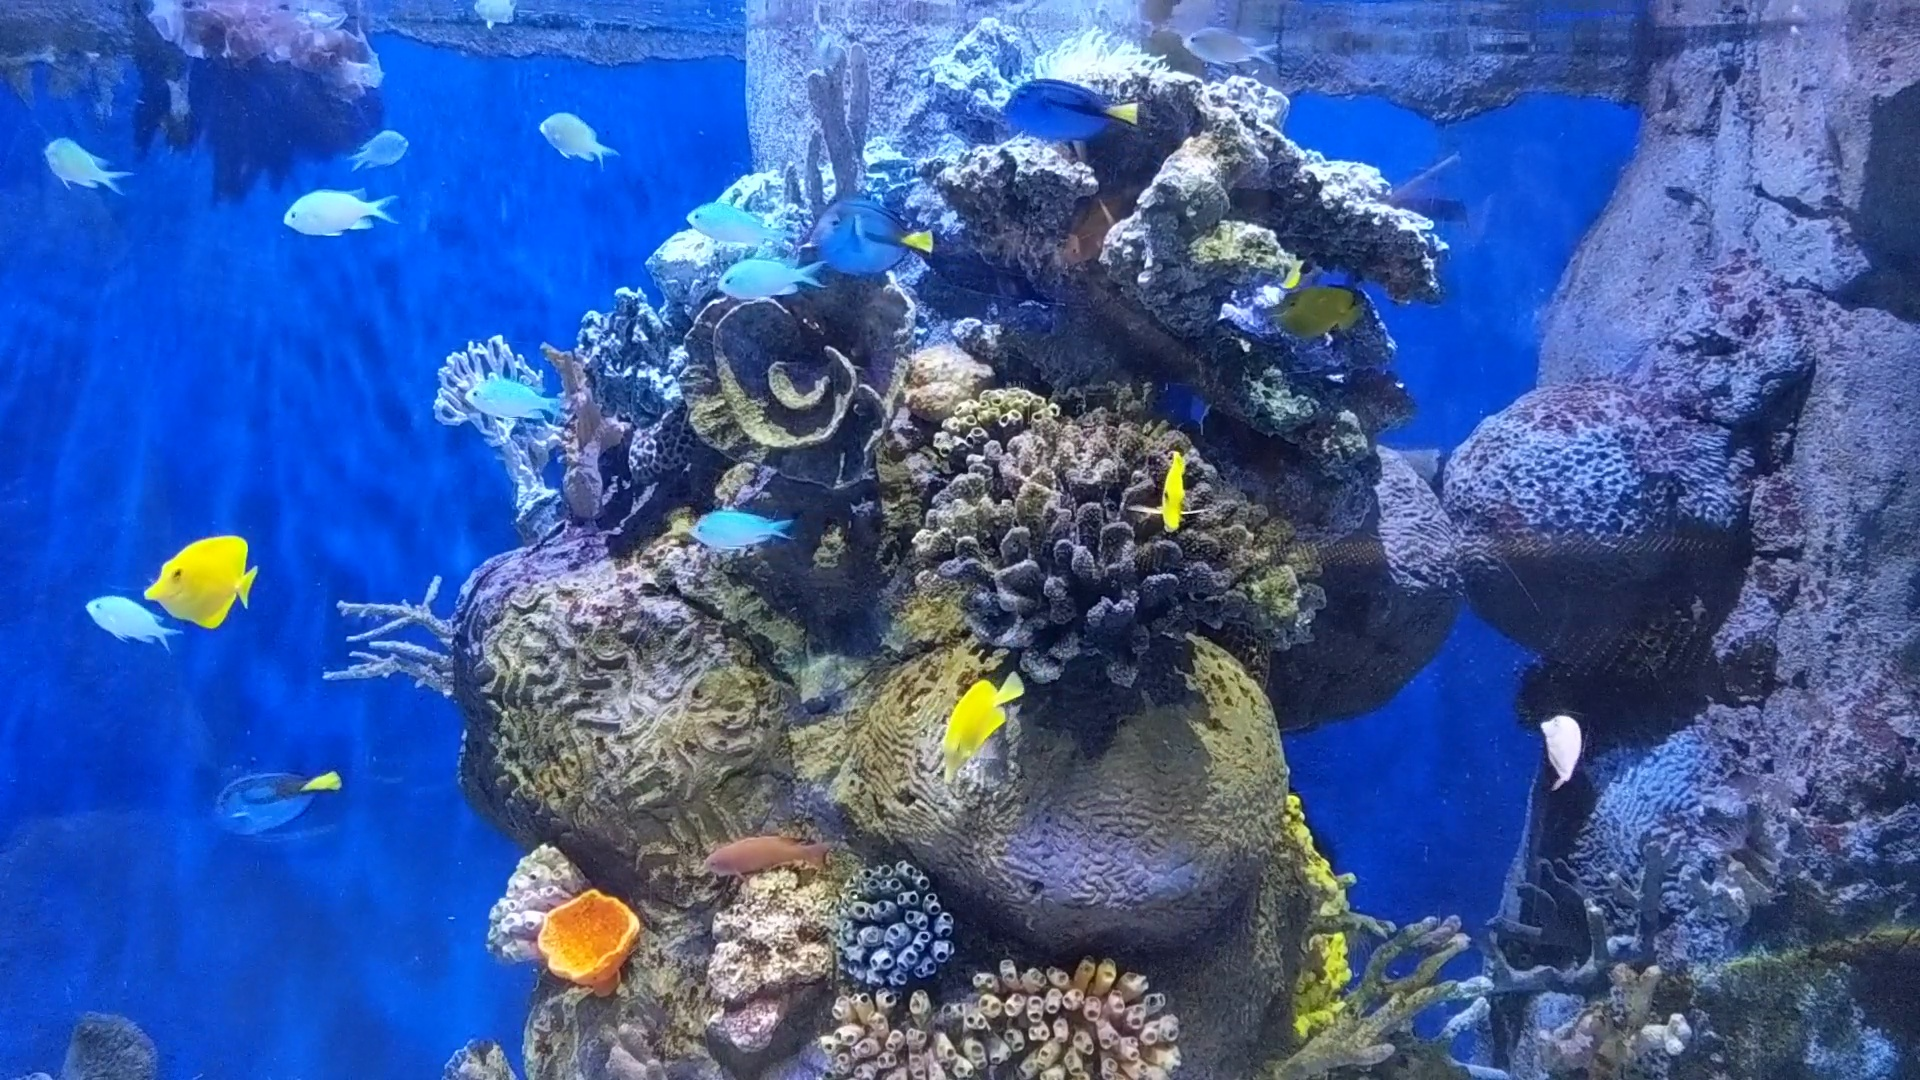blue tang surgeonfish: (185, 752, 357, 845), (803, 177, 947, 287), (982, 63, 1151, 145)
damselfish: (73, 580, 182, 673), (703, 239, 831, 314), (674, 498, 808, 566), (450, 364, 574, 433), (32, 117, 129, 199), (526, 105, 624, 173), (1174, 22, 1282, 79), (282, 189, 398, 239), (676, 193, 785, 245), (348, 127, 404, 164)
pink fish: (1518, 690, 1600, 794)
saddle butterfly fish: (137, 526, 272, 644), (911, 659, 1025, 794), (1258, 262, 1371, 348), (1131, 444, 1203, 538)
